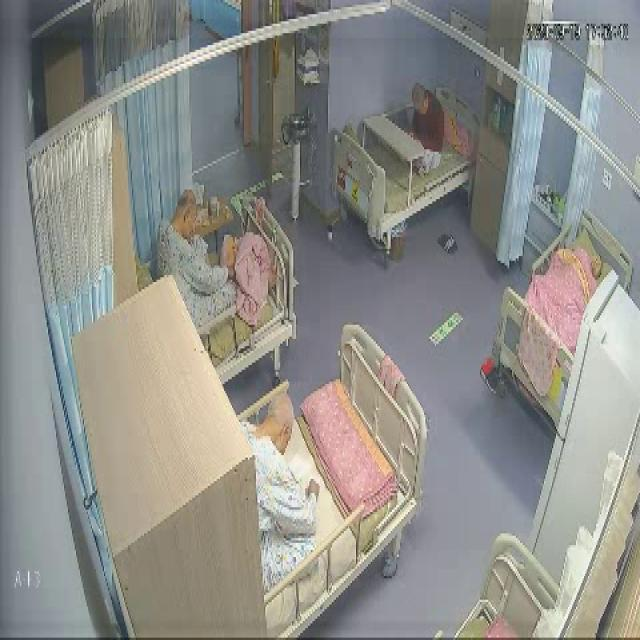bed: (232, 327, 428, 640), (493, 210, 632, 425), (162, 200, 294, 384), (336, 82, 478, 240)
patient: (238, 390, 320, 592), (156, 188, 236, 340), (404, 84, 444, 178)
sit: (156, 188, 280, 336), (238, 390, 320, 590), (404, 82, 444, 176)
